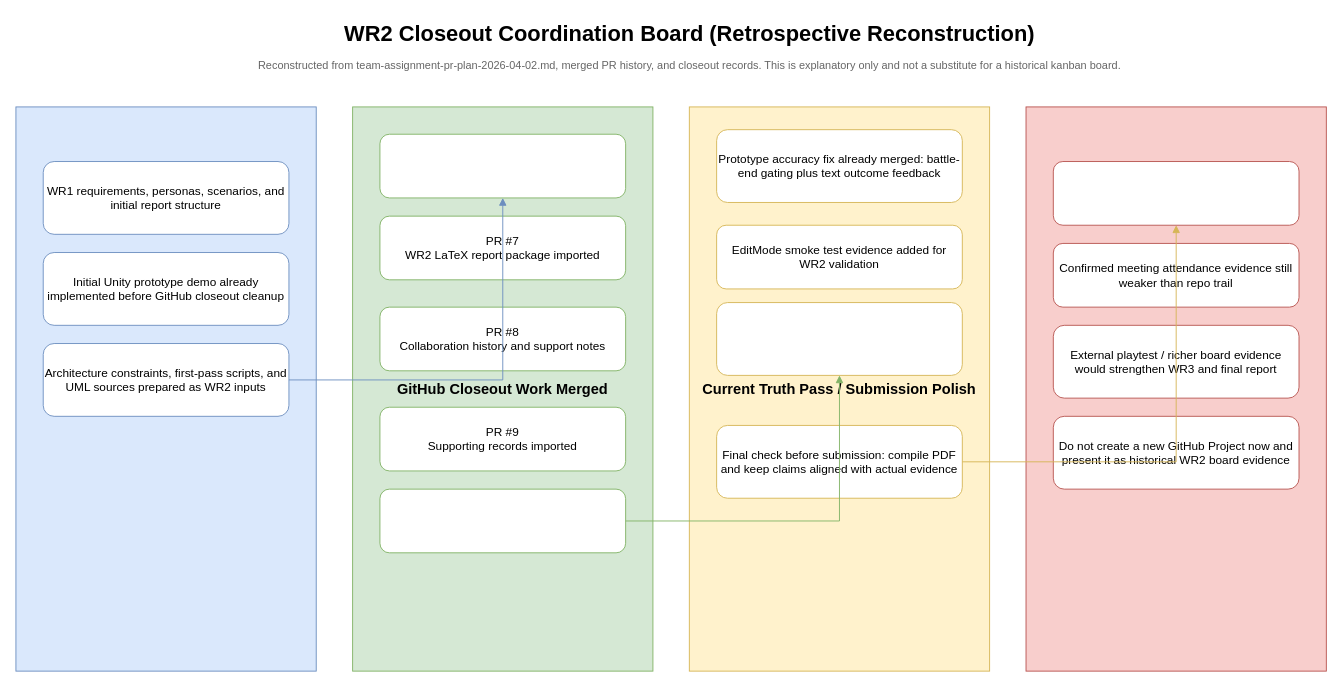
Some shapes in this 1342 by 687 pixel diagram are drawn without their labels. The shapes that lost their labels are listed below. From the top down, each one's centre as x and y in pixels, then its label:
the point at 502,165: PR #6 WR2 baseline and scope alignment
the point at 1175,193: No historical task-board captures in repo yet
the point at 839,338: Current closeout step: truth-pass records, appendix, and supporting claims
the point at 502,520: PR #12 WR2 wording refreshed to match current prototype
